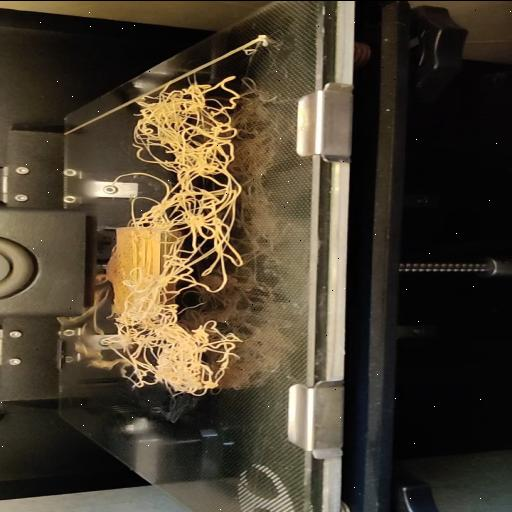spaghetti: (107, 74, 247, 398)
